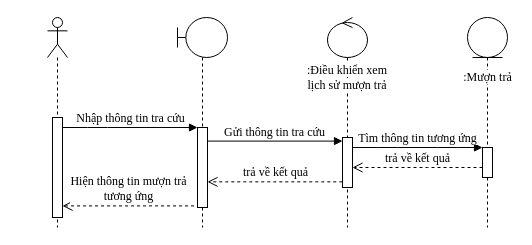
This 532x245 diagram has some shape labels left out. Here are the shapes that lost their labels. From the top down, the box of each, then its label:
(46, 16, 68, 228): :Người dùng
(176, 16, 228, 228): :Màn hình xem lịch sử mượn trả
